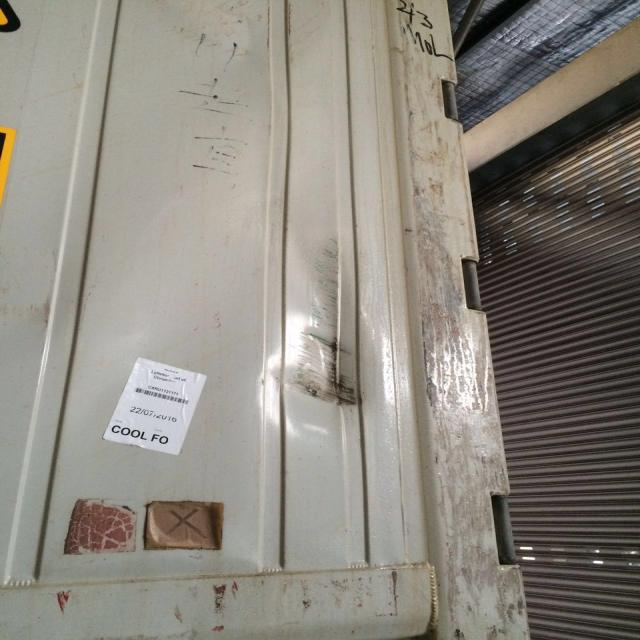dent: (252, 314, 366, 440)
